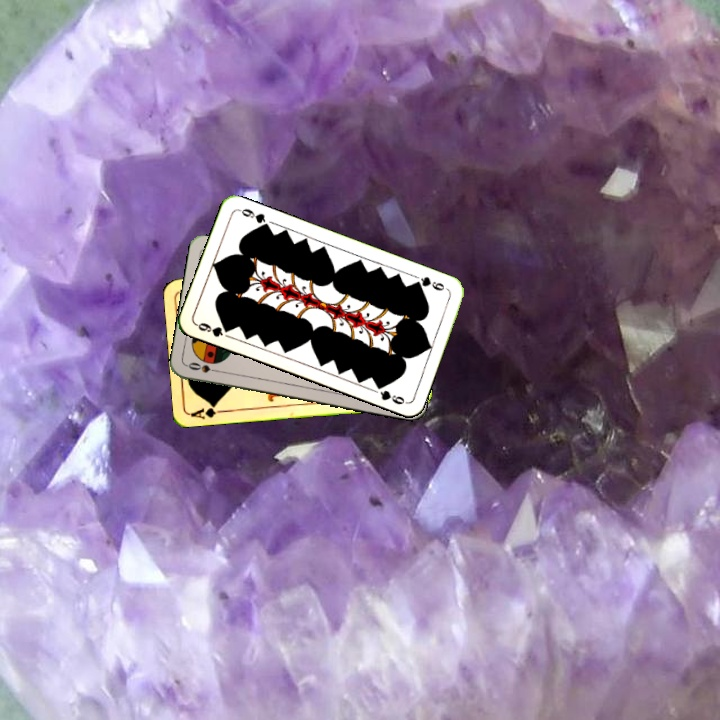G9: (192, 318, 233, 340), (410, 272, 450, 293)
GA: (188, 400, 228, 421)
SO: (184, 359, 225, 375)
